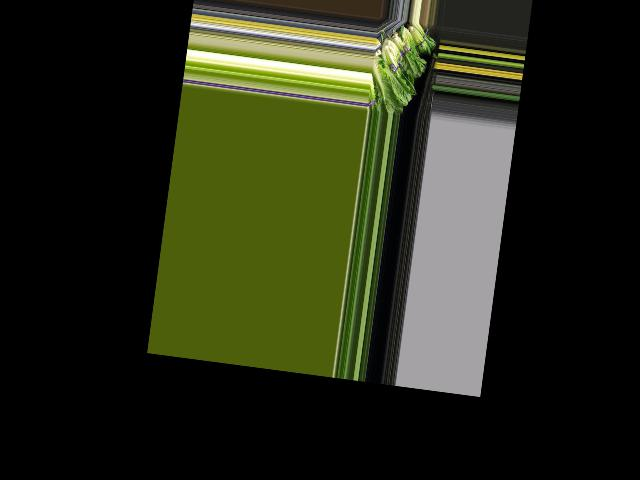lettuce: (369, 56, 413, 115)
